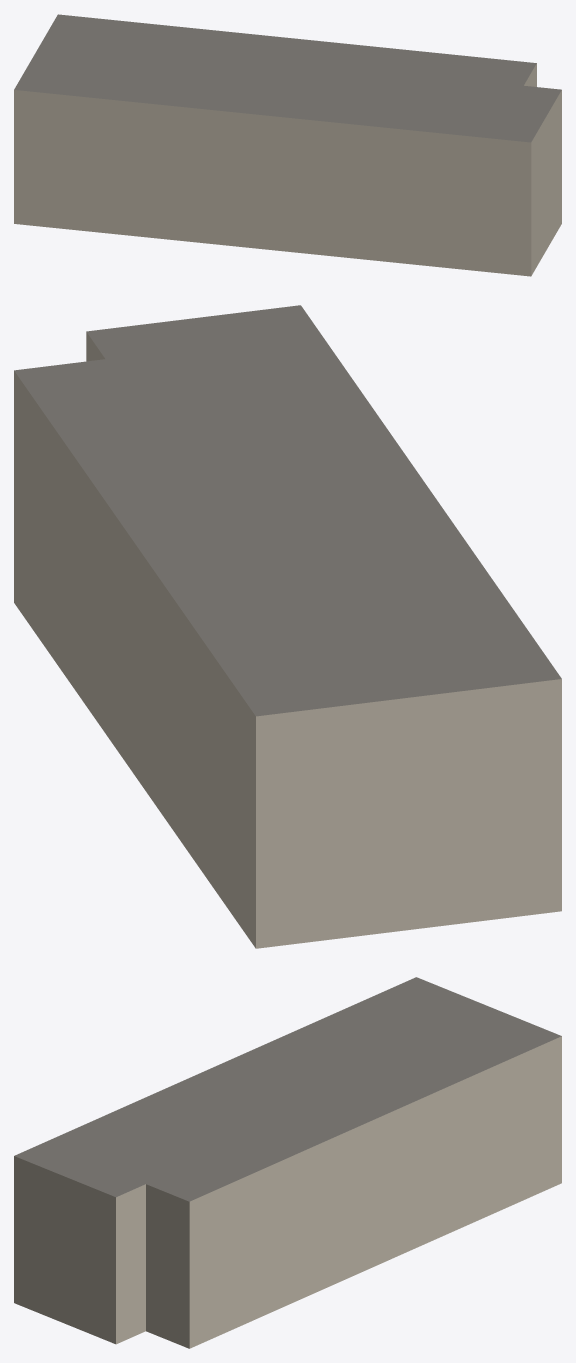
The picture shows the model from 3 angles, top to bottom: view 1: azimuth 30°, elevation 25°; view 2: azimuth 150°, elevation 25°; view 3: azimuth 270°, elevation 25°; orthographic projection. The views are drawn at different scales.
Parts seen in each view (by area): view 1: HP-w745277156; view 2: HP-w745277156; view 3: HP-w745277156.
Boxes of the visible parts, x1=… form: HP-w745277156: x1=14, y1=14, x2=561, y2=276; HP-w745277156: x1=14, y1=305, x2=561, y2=948; HP-w745277156: x1=14, y1=977, x2=561, y2=1348.
Bounding box in the file's own units: 58.95 × 18 × 60.76.
